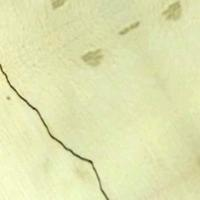crack: (0, 60, 109, 199)
